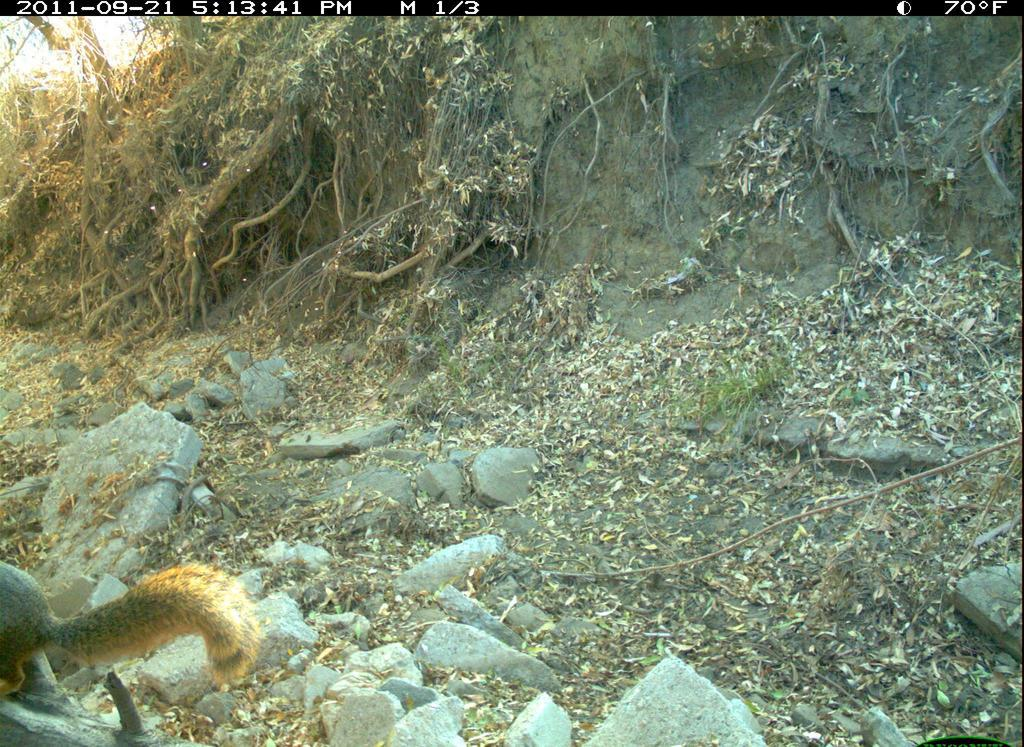squirrel: (1, 533, 264, 706)
